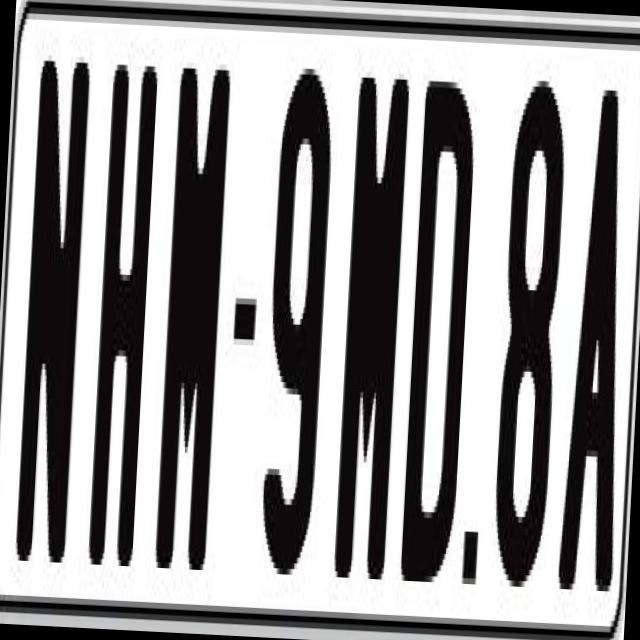8: (488, 62, 572, 582)
9: (255, 68, 338, 582)
A: (553, 88, 623, 602)
D: (395, 63, 474, 601)
H: (86, 59, 164, 590)
M: (153, 62, 230, 565), (332, 65, 408, 568)
N: (12, 54, 98, 586)
